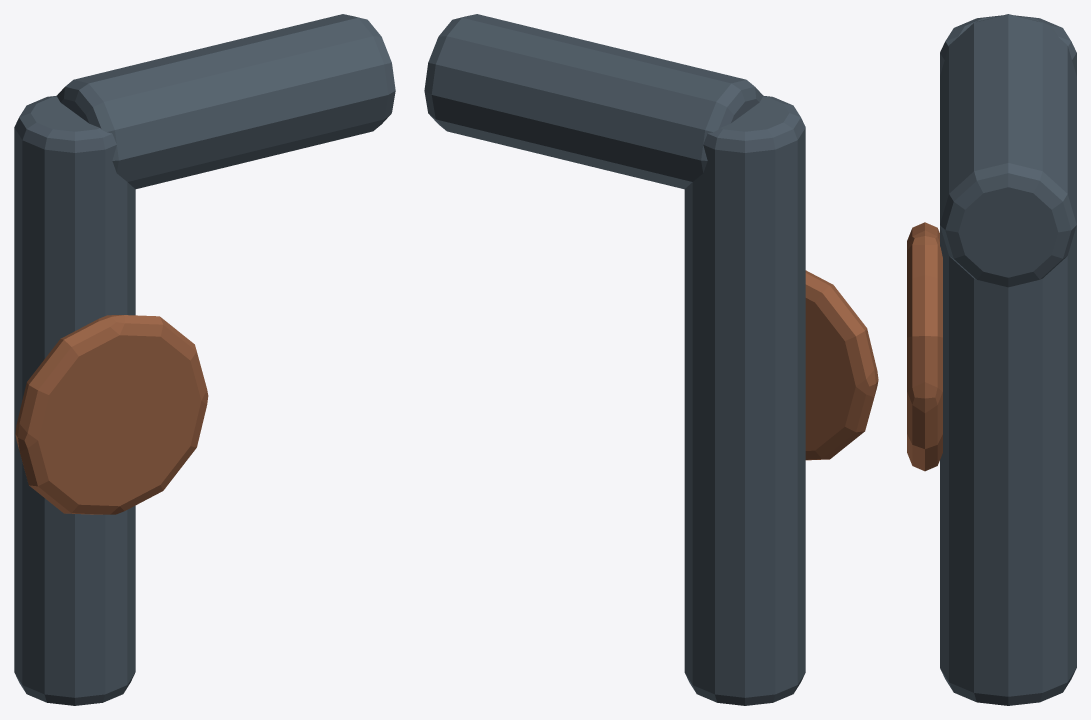
Rendered from Foundry-Pipe-Valve.glb.
The picture shows the model from 3 angles, left to right: view 1: azimuth 30°, elevation 25°; view 2: azimuth 150°, elevation 25°; view 3: azimuth 270°, elevation 25°; orthographic projection. The views are drawn at different scales.
Visible parts, largest first — view 1: Pipe_Vertical.001, Pipe_Top.001, Pipe_Valve.001; view 2: Pipe_Vertical.001, Pipe_Top.001, Pipe_Valve.001; view 3: Pipe_Vertical.001, Pipe_Top.001, Pipe_Valve.001.
Part boxes in pixels (x1,y1,x2,y2): Pipe_Vertical.001: (14,95,135,705); Pipe_Top.001: (56,14,395,189); Pipe_Valve.001: (15,315,208,514); Pipe_Vertical.001: (684,96,805,705); Pipe_Top.001: (424,14,763,189); Pipe_Valve.001: (805,270,878,460); Pipe_Vertical.001: (940,15,1076,705); Pipe_Top.001: (940,14,1076,287); Pipe_Valve.001: (907,222,942,471).
Size of the model in its own units: 1.71 by 2.51 by 0.57.
